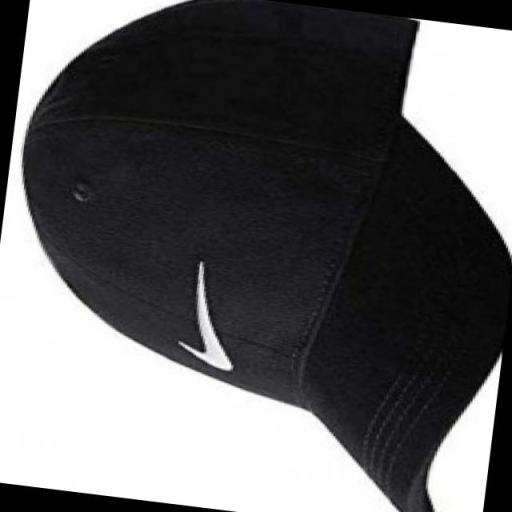Nike: (172, 250, 251, 377)
